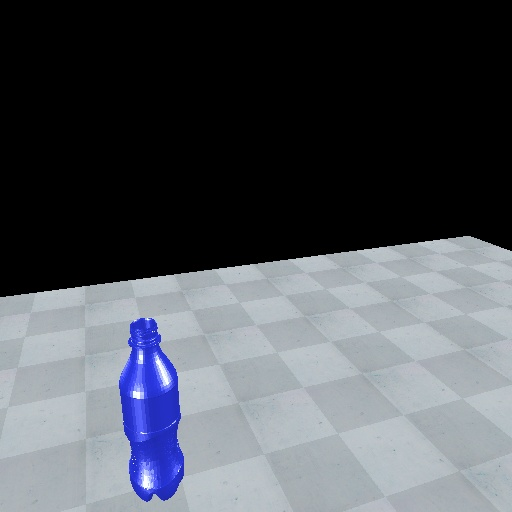bottle: (117, 316, 187, 503)
